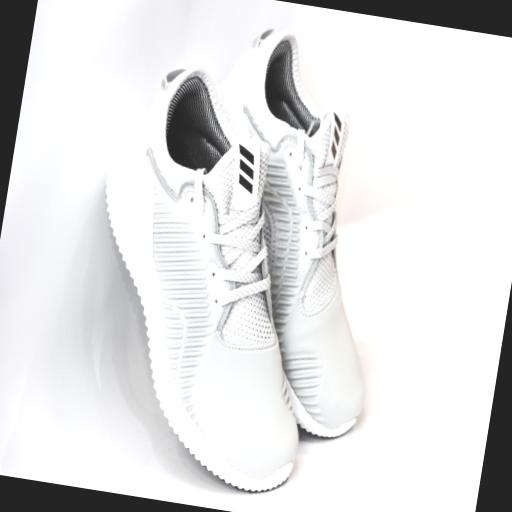shoe: (106, 68, 297, 490), (220, 31, 363, 437)
